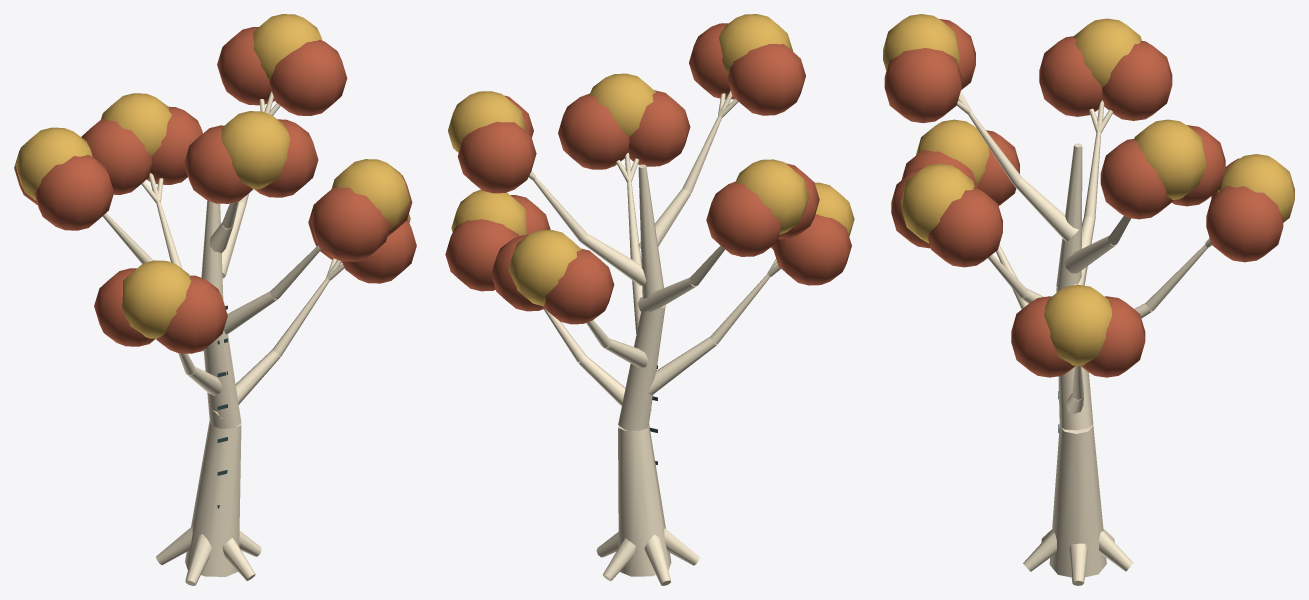
The model's file is almanac-gardens-autumn-birch-da644722__22054.glb.
3 views of the same model, side by side, from view 1: azimuth 30°, elevation 25°; view 2: azimuth 150°, elevation 25°; view 3: azimuth 270°, elevation 25° (orthographic). The views are drawn at different scales.
Parts seen in each view (by area): view 1: autumn-birch-clay, autumn-birch-gold, autumn-birch-ivory; view 2: autumn-birch-clay, autumn-birch-ivory, autumn-birch-gold; view 3: autumn-birch-clay, autumn-birch-gold, autumn-birch-ivory.
Boxes of the visible parts, <box> form: autumn-birch-clay: <box>14,27,416,353</box>; autumn-birch-gold: <box>15,14,410,338</box>; autumn-birch-ivory: <box>102,91,344,585</box>; autumn-birch-clay: <box>445,23,851,324</box>; autumn-birch-ivory: <box>529,90,781,585</box>; autumn-birch-gold: <box>448,14,854,306</box>; autumn-birch-clay: <box>884,19,1283,377</box>; autumn-birch-gold: <box>883,14,1294,365</box>; autumn-birch-ivory: <box>956,91,1211,585</box>.
Size of the model in its own units: 2.61 by 3.48 by 2.44.
